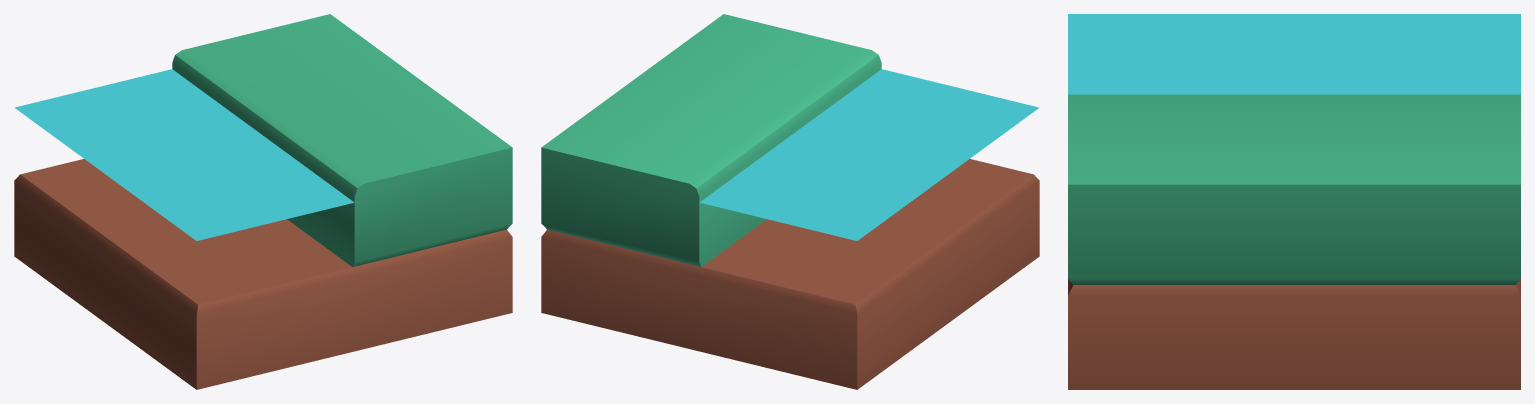
File: square_forest_waterStraight_noSides.glb
The picture shows the model from 3 angles, left to right: view 1: azimuth 30°, elevation 25°; view 2: azimuth 150°, elevation 25°; view 3: azimuth 270°, elevation 25°; orthographic projection. The views are drawn at different scales.
Visible parts, largest first — view 1: square_forest_waterStraight_noSides; view 2: square_forest_waterStraight_noSides; view 3: square_forest_waterStraight_noSides.
Boxes of the visible parts, x1=… form: square_forest_waterStraight_noSides: x1=14, y1=14, x2=512, y2=389; square_forest_waterStraight_noSides: x1=541, y1=14, x2=1039, y2=389; square_forest_waterStraight_noSides: x1=1068, y1=14, x2=1520, y2=389.
Size of the model in its own units: 3.43 by 1.72 by 3.43.
